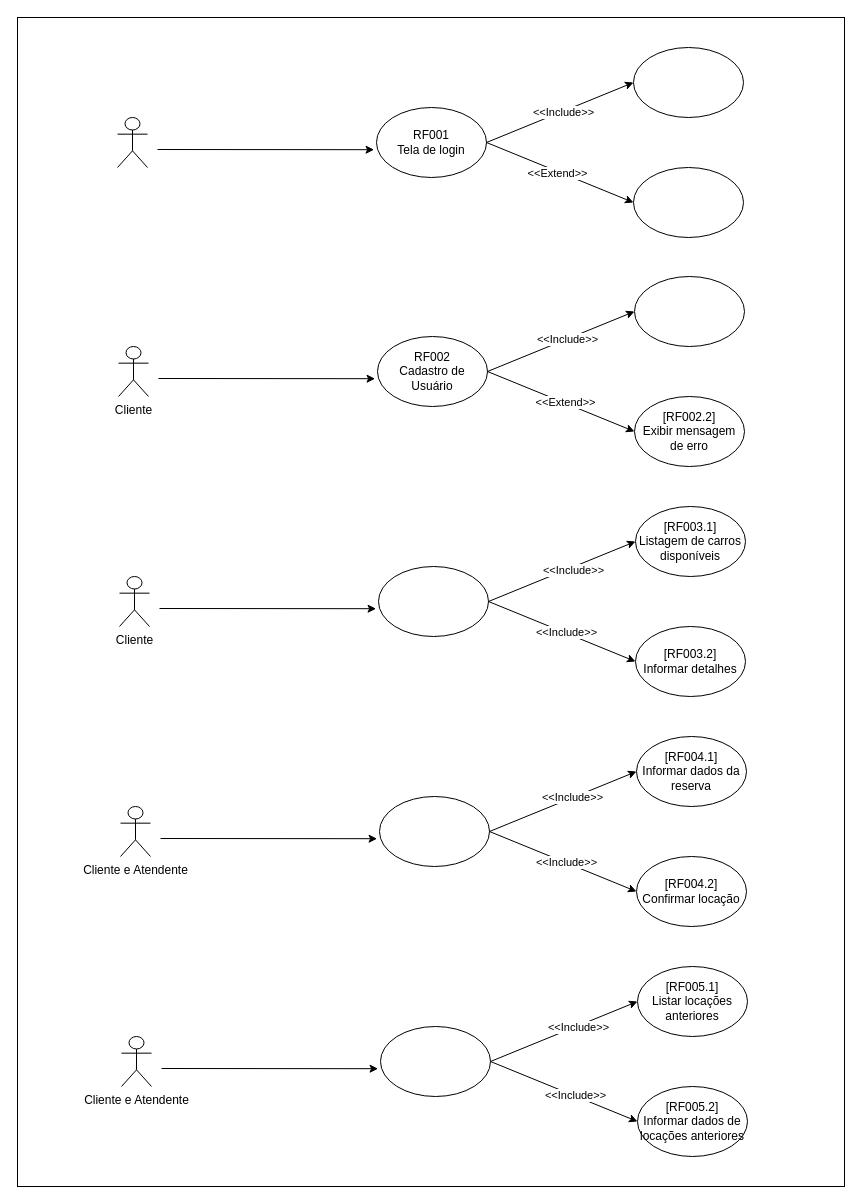
The diagram is 862 pixels wide and 1204 high, and some of its shapes have lost their labels. The shapes that lost their labels are listed below. From the top down, each one's box as (x1, y1, x2, y2) in pixels, then its label:
(632, 46, 744, 118): [RF001.1] Informar e-mail e senha
(116, 116, 148, 168): Todos
(632, 166, 744, 238): [RF001.2] Exibir mensagem de erro
(634, 276, 744, 346): [RF002.1] Informar dados
(378, 566, 488, 636): RF003 Consulta de carros disponíveis
(378, 796, 490, 866): RF004 Agendamento de Locação
(380, 1026, 490, 1096): RF005 Histórico de Locação
